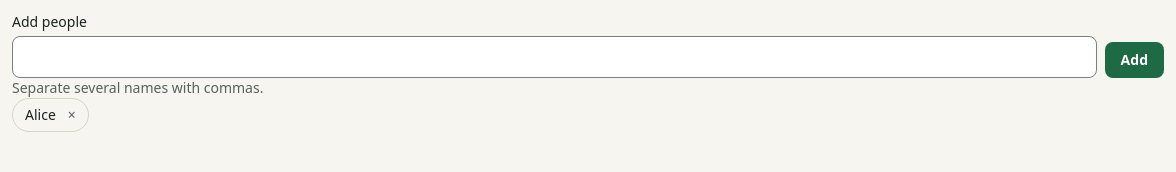
it: ParticipantList › adds a typed name and clears the field
In the field labelled "Add people": (554, 57) [12, 36, 1097, 78], type "Bob"
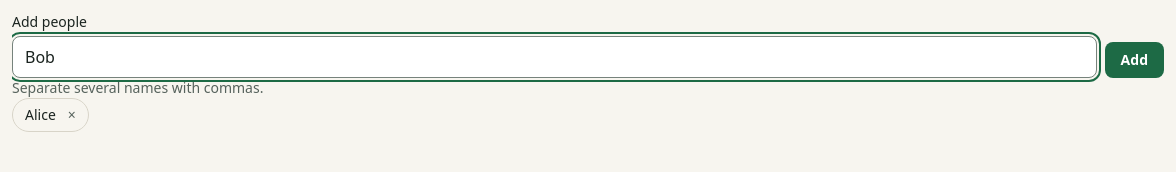
Click the button "Add": click(1134, 60) [1105, 42, 1164, 78]
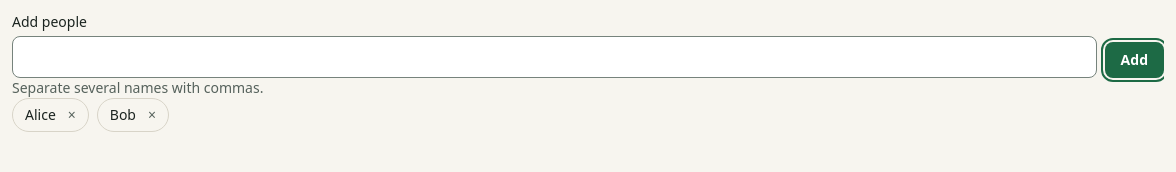
Now the field labelled "Add people" is empty, box [12, 36, 1097, 78]
